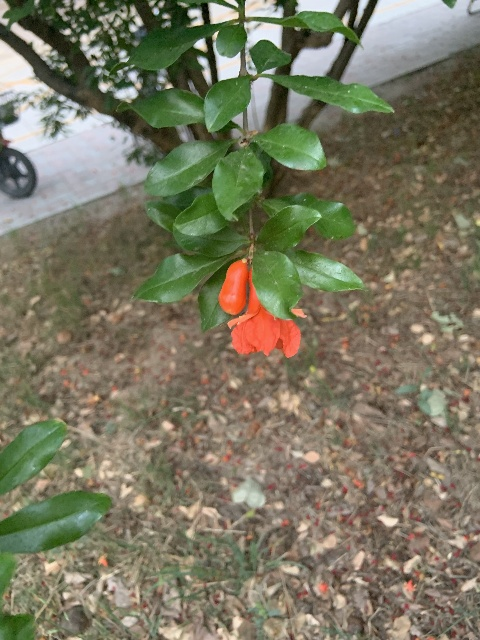bud: (218, 259, 248, 314)
flower: (228, 266, 301, 359)
